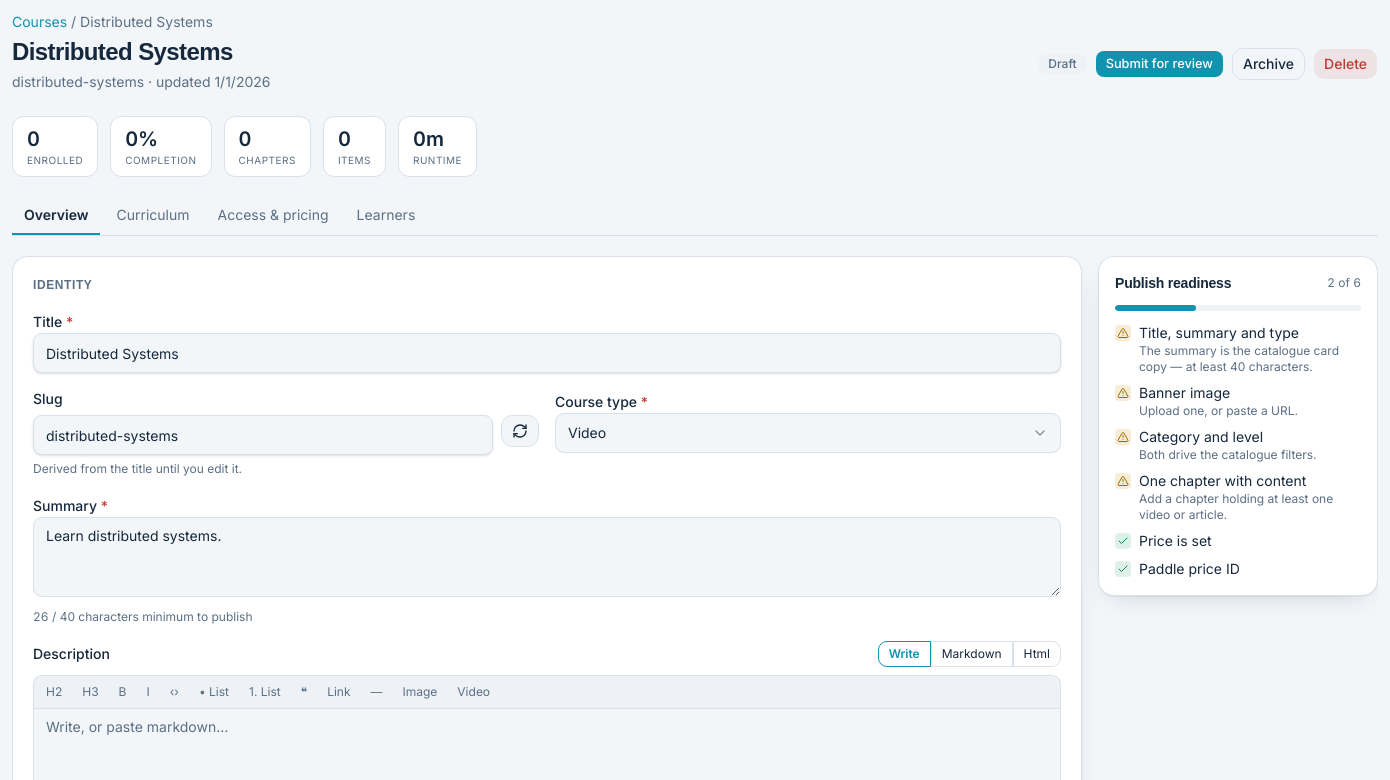
Test case: CourseDetailClient — Paddle field gating (course is already premium) › renders no Paddle price ID or Paddle plan code input for an instructor
Expected: the field labelled "Title *" is shown, [33, 333, 1061, 373]
Step 1. Click the tab "Access & pricing" → coordinates (273, 216), box [206, 197, 341, 235]
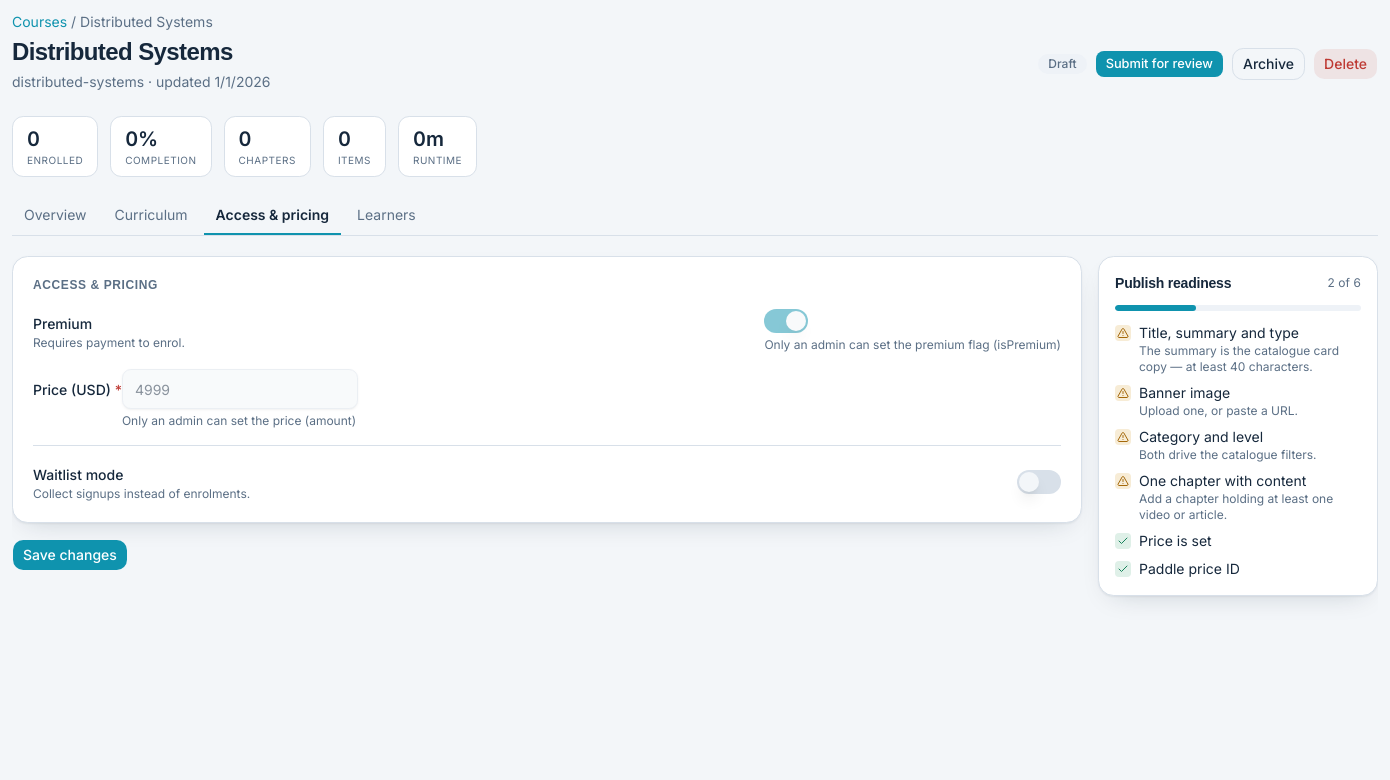
Now the 1st switch named "premium" is disabled, box [764, 309, 808, 333]
Now the number field labelled "Price (USD) *" is disabled, box [122, 369, 358, 409]
